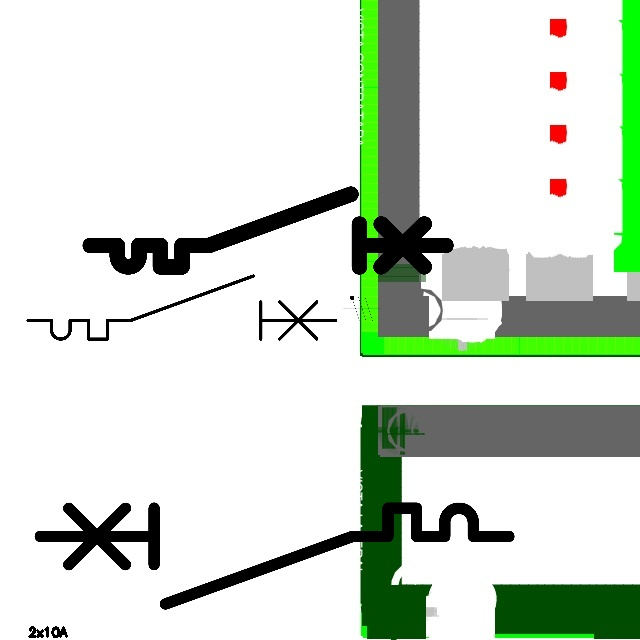interruptor_termomagnetico: (28, 496, 521, 616), (81, 185, 455, 276), (20, 268, 343, 347)
